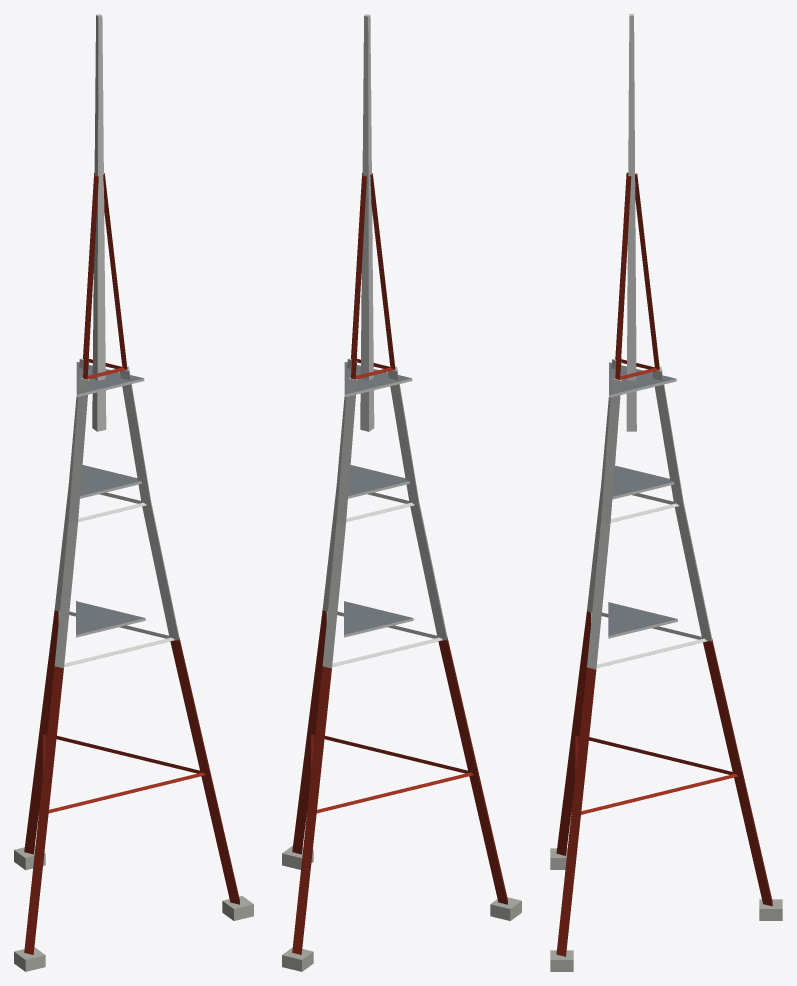
File: mobile-low.glb
3 views of the same model, side by side, from view 1: azimuth 30°, elevation 25°; view 2: azimuth 150°, elevation 25°; view 3: azimuth 270°, elevation 25° (orthographic).
Visible parts, largest first — view 1: lm.sutro-tower; view 2: lm.sutro-tower; view 3: lm.sutro-tower.
Part boxes in pixels (x1=…): lm.sutro-tower: x1=14, y1=14, x2=253, y2=971; lm.sutro-tower: x1=282, y1=14, x2=521, y2=971; lm.sutro-tower: x1=550, y1=14, x2=782, y2=971.
Size of the model in its own units: 79.75 by 300 by 70.
